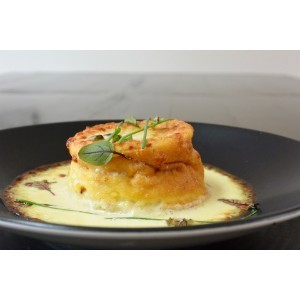cheese_brain food: (60, 124, 219, 208)
